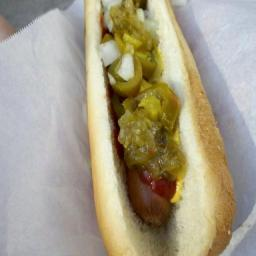hotdog: (130, 170, 173, 228)
